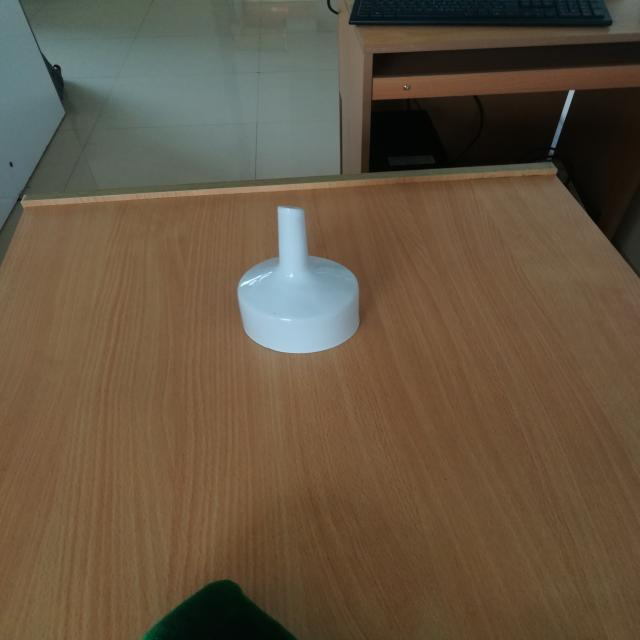Buchner_Funnel: (215, 182, 399, 376)
